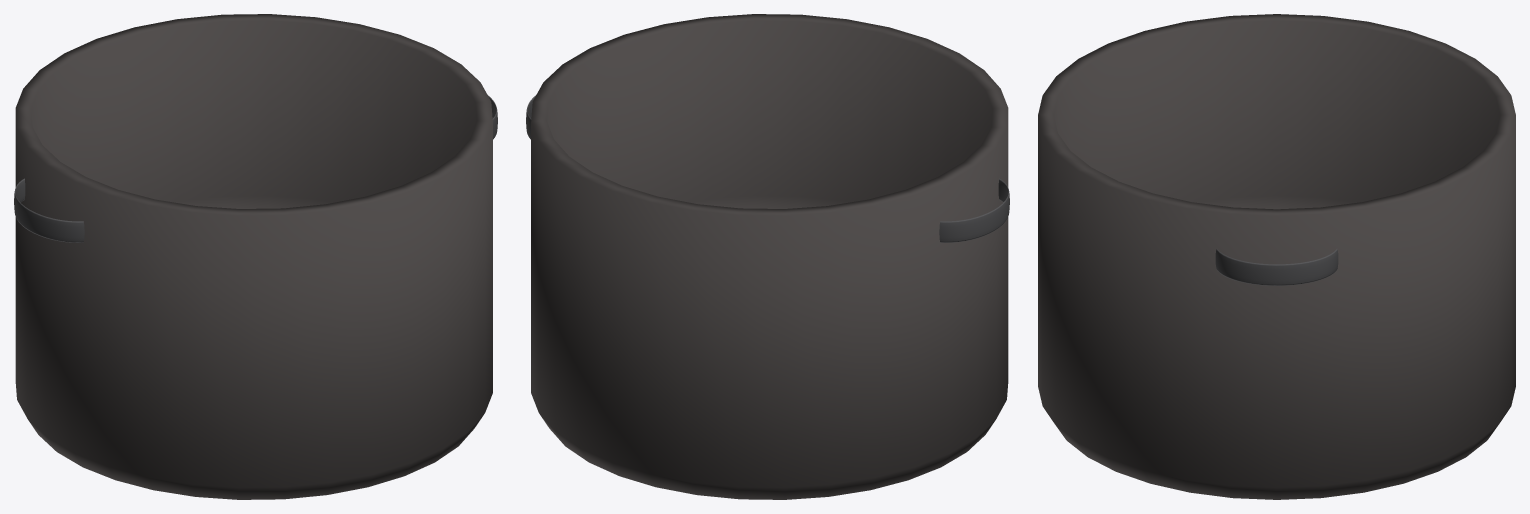
Rendered from Assets.fbx_Topf.fbx.
3 renders of one model, left to right at view 1: azimuth 30°, elevation 25°; view 2: azimuth 150°, elevation 25°; view 3: azimuth 270°, elevation 25°, orthographic.
Visible parts, largest first — view 1: Cylinder.017, Torus; view 2: Cylinder.017, Torus; view 3: Cylinder.017, Torus.001.
Part boxes in pixels (x1=…): Cylinder.017: x1=15, y1=14, x2=492, y2=499; Torus: x1=14, y1=178, x2=84, y2=242; Cylinder.017: x1=531, y1=14, x2=1008, y2=499; Torus: x1=939, y1=178, x2=1009, y2=242; Cylinder.017: x1=1038, y1=14, x2=1515, y2=499; Torus.001: x1=1215, y1=249, x2=1338, y2=285.
Bounding box in the file's own units: 33.53 × 20 × 30.
